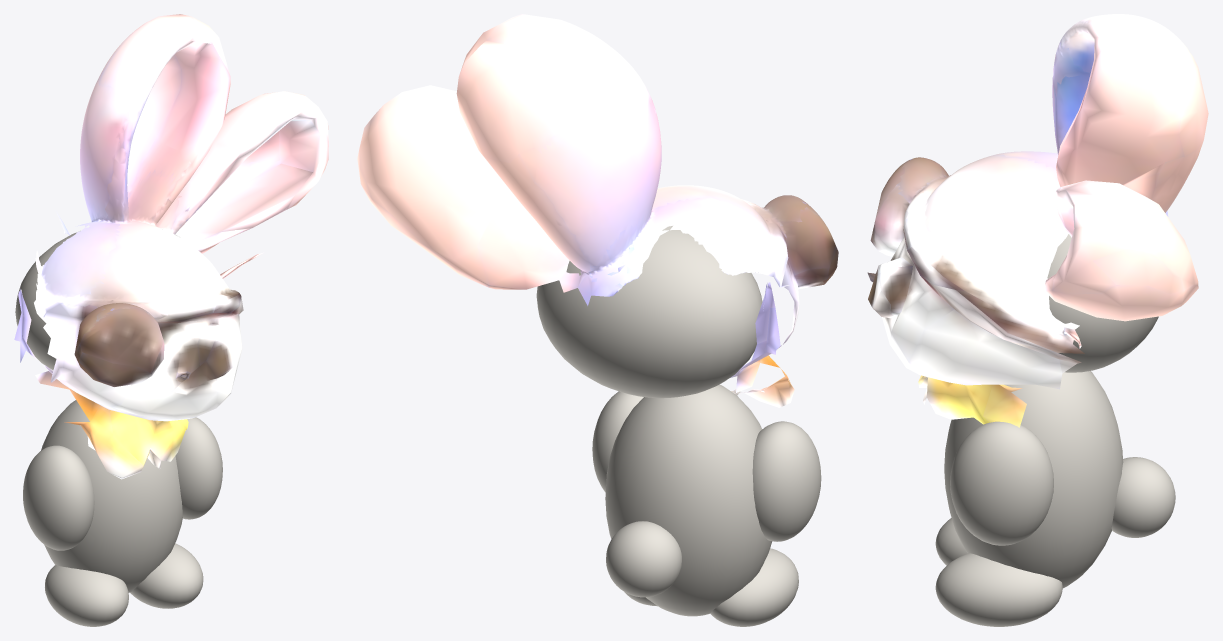
Rendered from luna-bunny.glb.
3 renders of one model, left to right at view 1: azimuth 30°, elevation 25°; view 2: azimuth 150°, elevation 25°; view 3: azimuth 270°, elevation 25°, orthographic. The views are drawn at different scales.
Visible parts, largest first — view 1: Bunny_OriginalSurface, Bunny_RebuiltBody, Bunny_RebuiltPaw, Bunny_RebuiltFoot, Bunny_RebuiltPaw.001, Bunny_RebuiltFoot.001, Bunny_RebuiltHeadBack; view 2: Bunny_OriginalSurface, Bunny_RebuiltBody, Bunny_RebuiltHeadBack, Bunny_RebuiltPaw, Bunny_RebuiltTail, Bunny_RebuiltFoot, Bunny_RebuiltPaw.001; view 3: Bunny_OriginalSurface, Bunny_RebuiltBody, Bunny_RebuiltPaw.001, Bunny_RebuiltFoot.001, Bunny_RebuiltHeadBack, Bunny_RebuiltTail, Bunny_RebuiltFoot.
Boxes of the visible parts, <box> form: Bunny_OriginalSurface: <box>14,14,328,479</box>; Bunny_RebuiltBody: <box>41,400,182,592</box>; Bunny_RebuiltPaw: <box>23,445,94,550</box>; Bunny_RebuiltFoot: <box>45,565,128,626</box>; Bunny_RebuiltPaw.001: <box>175,417,222,519</box>; Bunny_RebuiltFoot.001: <box>130,543,203,608</box>; Bunny_RebuiltHeadBack: <box>15,232,176,370</box>; Bunny_OriginalSurface: <box>357,14,838,407</box>; Bunny_RebuiltBody: <box>605,384,772,616</box>; Bunny_RebuiltHeadBack: <box>536,226,762,398</box>; Bunny_RebuiltPaw: <box>752,421,821,541</box>; Bunny_RebuiltTail: <box>606,521,681,597</box>; Bunny_RebuiltFoot: <box>710,548,798,626</box>; Bunny_RebuiltPaw.001: <box>592,391,643,492</box>; Bunny_OriginalSurface: <box>867,14,1208,427</box>; Bunny_RebuiltBody: <box>944,371,1123,588</box>; Bunny_RebuiltPaw.001: <box>950,421,1053,545</box>; Bunny_RebuiltFoot.001: <box>935,553,1062,626</box>; Bunny_RebuiltHeadBack: <box>1047,234,1158,372</box>; Bunny_RebuiltTail: <box>1111,457,1175,537</box>; Bunny_RebuiltFoot: <box>935,518,967,565</box>.
Bounding box in the file's own units: 0.1645 × 0.2436 × 0.118.
2 materials, 1 textured.
